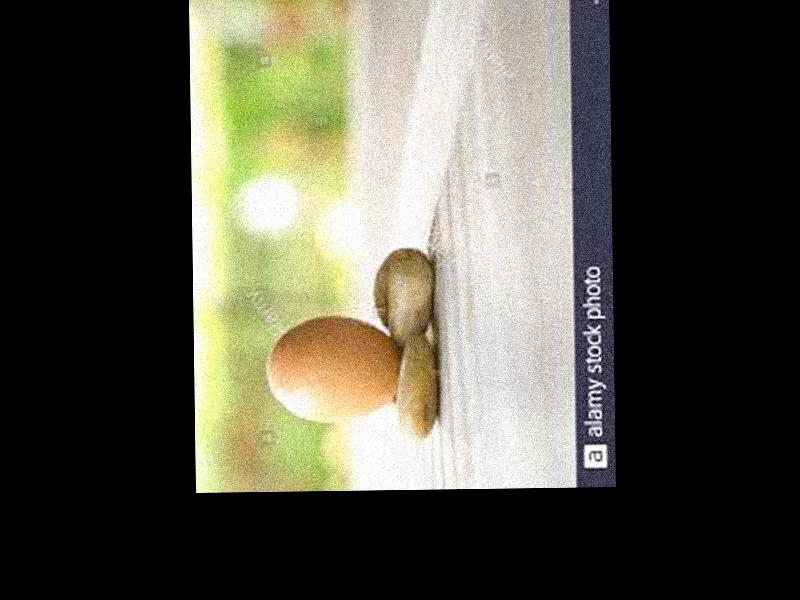Eggs: (268, 314, 400, 425)
